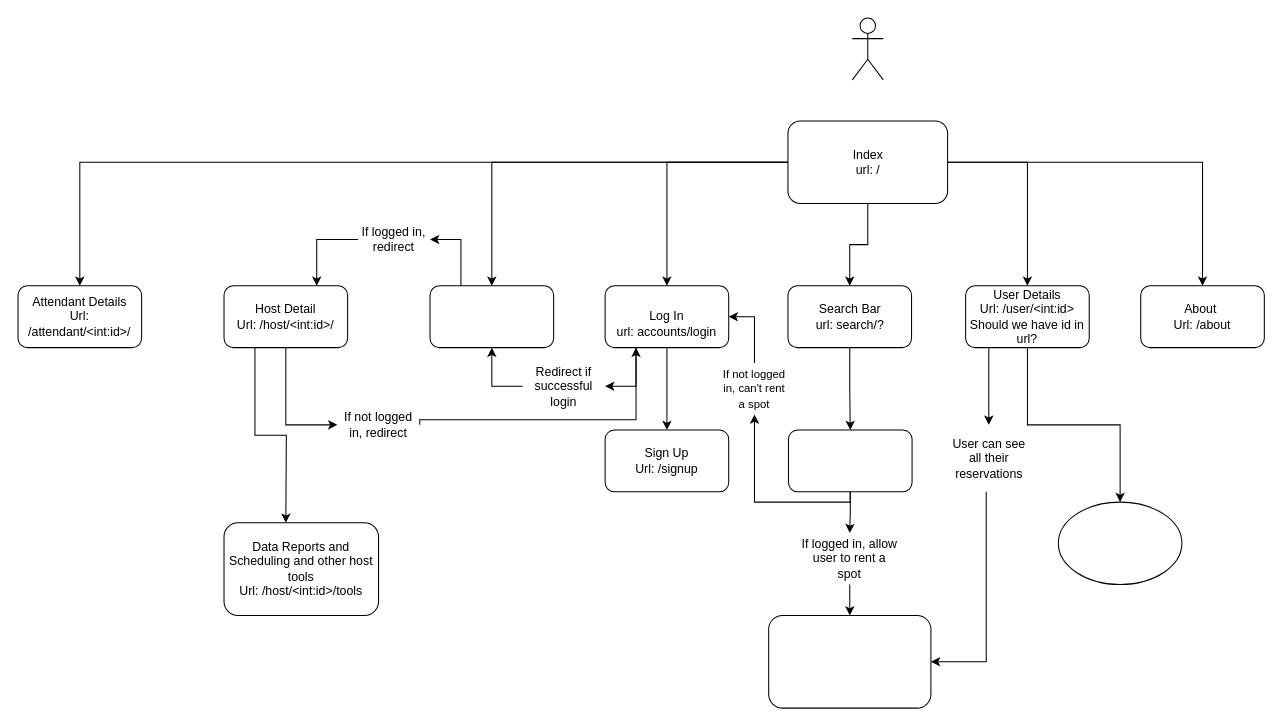
The diagram is 1282 pixels wide and 726 high, and some of its shapes have lost their labels. The centre of each missing label's shape, as x and y in pixels:
"Confirm Reservation Url: /reservation/<int:res_id>/ ** accessible by qr code**" goes at (849,661).
"Host Index Url: /host" goes at (491,316).
"Spot Details Url: ??" goes at (849,460).
"User" goes at (867,48).
"User can see all their transactions" goes at (1119,543).
